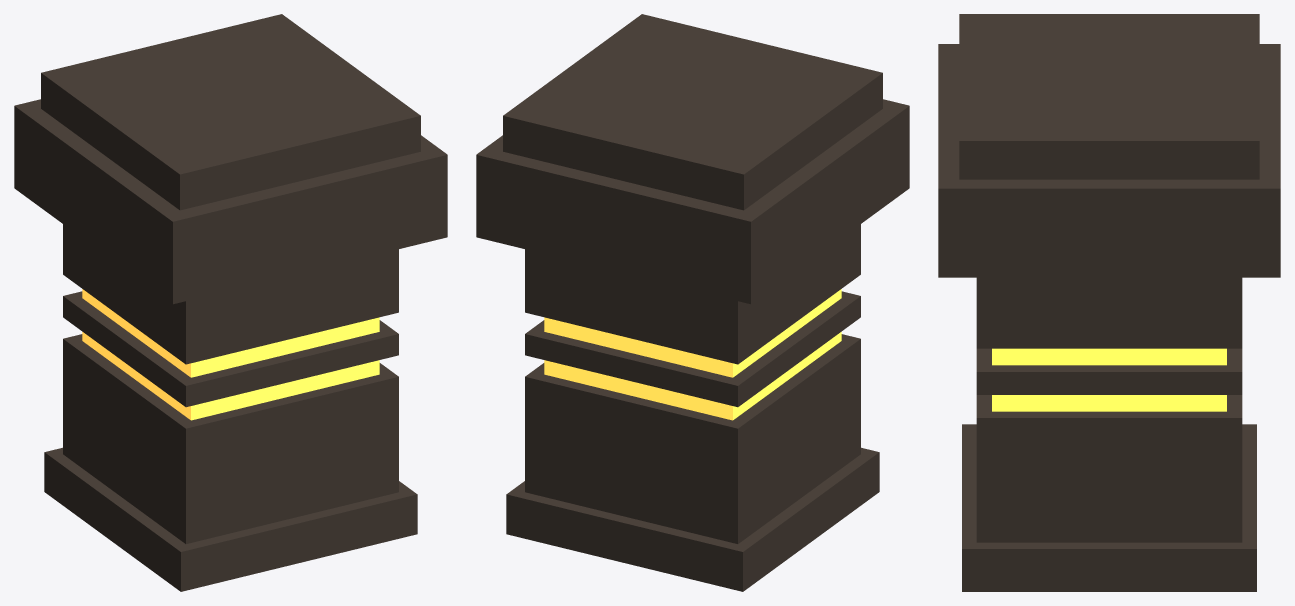
The model's file is stone column.fbx.
3 renders of one model, left to right at view 1: azimuth 30°, elevation 25°; view 2: azimuth 150°, elevation 25°; view 3: azimuth 270°, elevation 25°, orthographic. The views are drawn at different scales.
Visible parts, largest first — view 1: Cube, Cube.001; view 2: Cube, Cube.001; view 3: Cube, Cube.001.
Boxes of the visible parts, bbox=[...] form: Cube: bbox=[14, 14, 447, 591]; Cube.001: bbox=[82, 289, 379, 420]; Cube: bbox=[476, 14, 909, 591]; Cube.001: bbox=[544, 289, 841, 420]; Cube: bbox=[938, 14, 1280, 591]; Cube.001: bbox=[992, 348, 1226, 411].
Size of the model in its own units: 1442 by 2100 by 1441.
